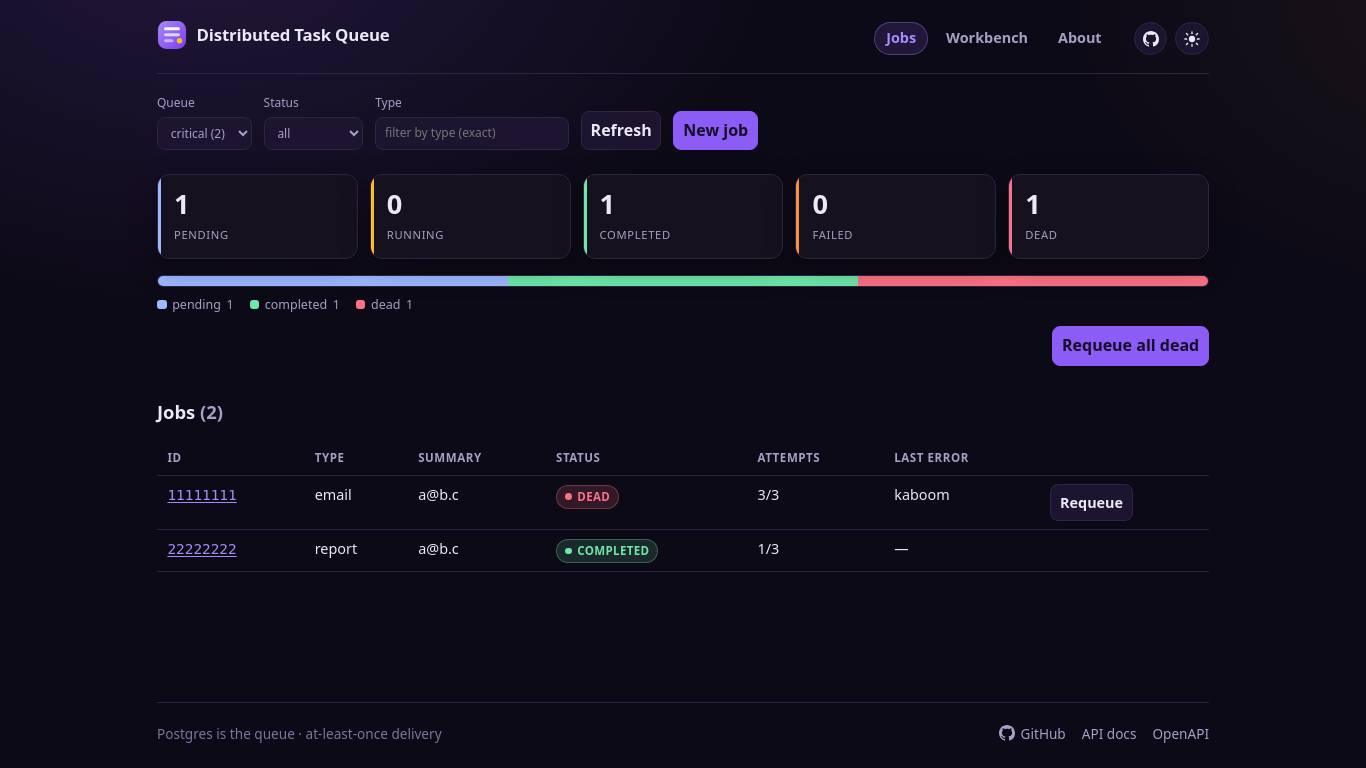
Scenario: App › bulk-requeues every dead job for the selected queue
Expected: the table is shown, [157,441,1209,572]
Click the button "Requeue all dead" at (1131, 346), box [1052,326,1209,366]
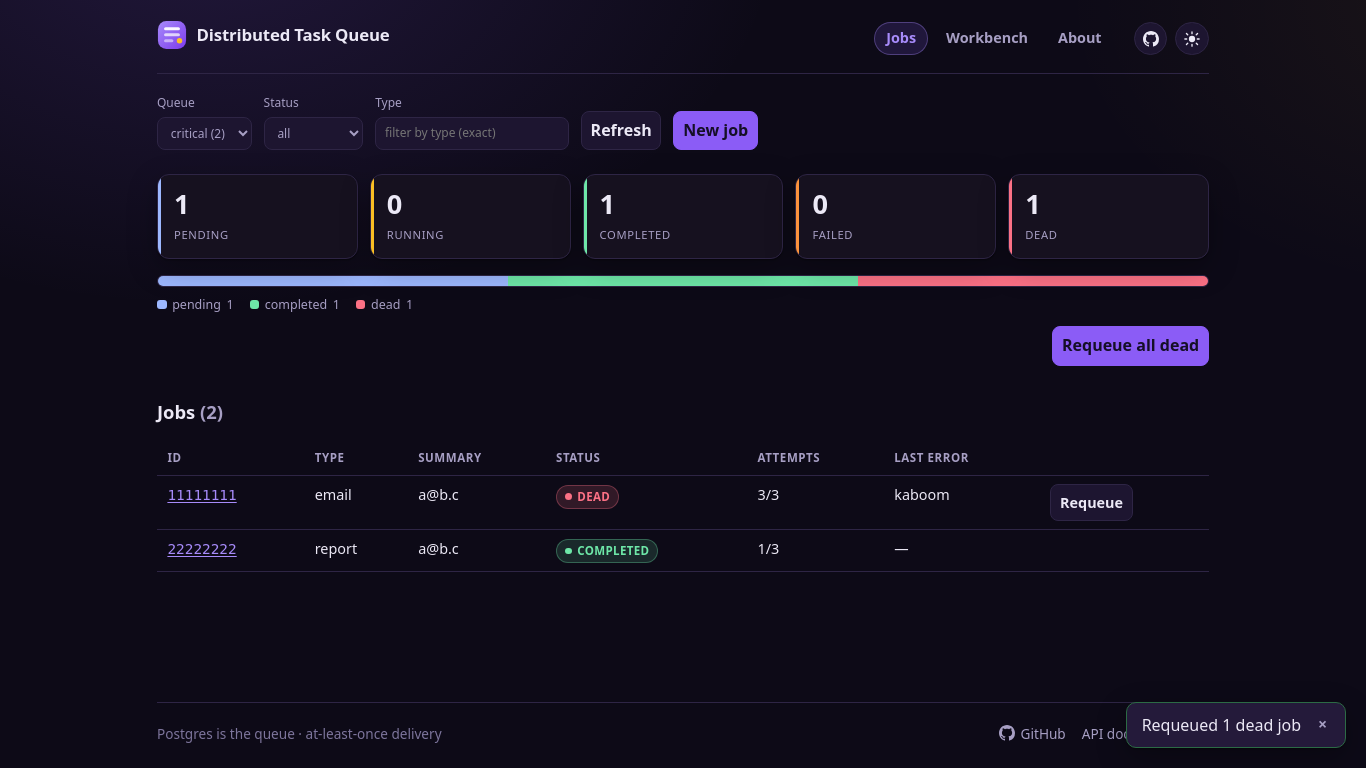
Expected: the message shows "Requeued 1 dead job", [1142,714,1301,736]
